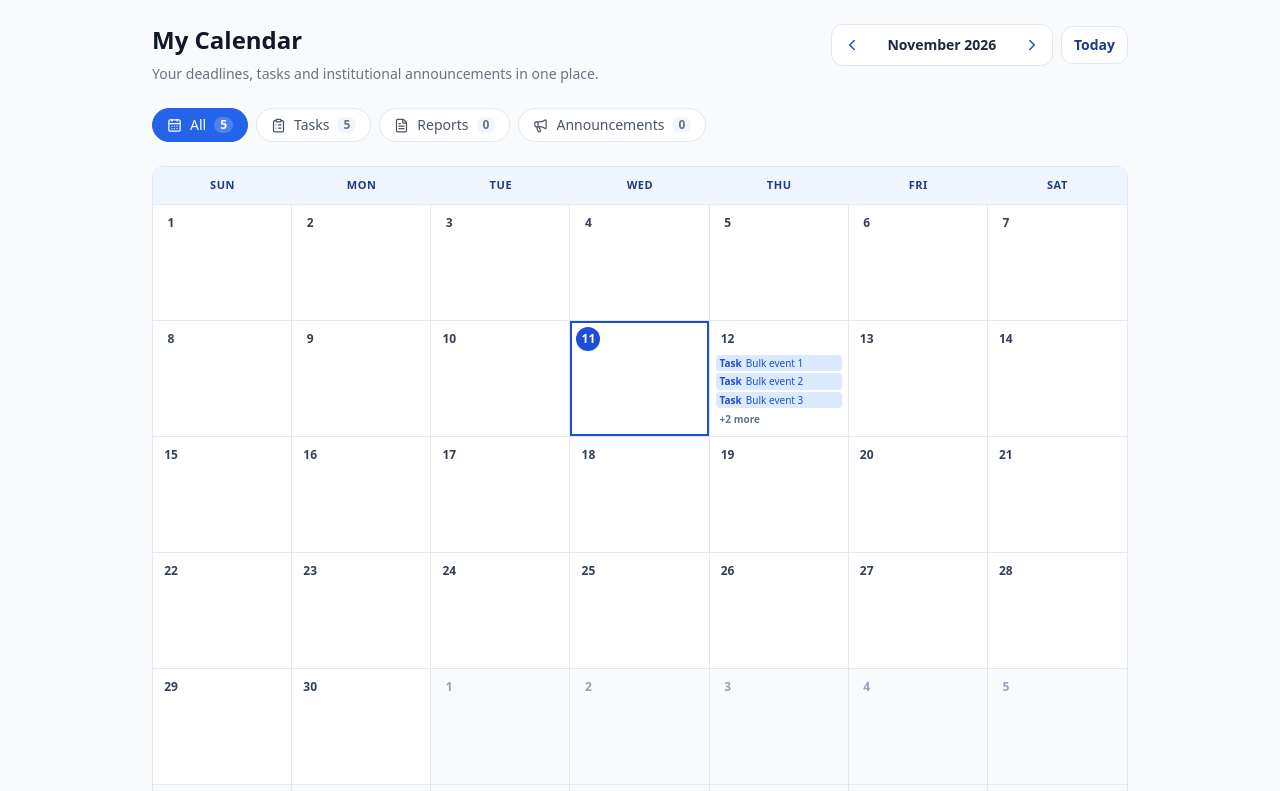
Scenario: EmployeeCalendarPage (in-cell event labels) › collapses extra events into "+X more" and opens the full day list
Expected: the button titled "Task: Bulk event 1" is shown, [716,354,842,371]
Expected: the button titled "Task: Bulk event 3" is shown, [716,392,842,408]
Click the button "+2 more" at point(779, 420), box [716,410,842,429]
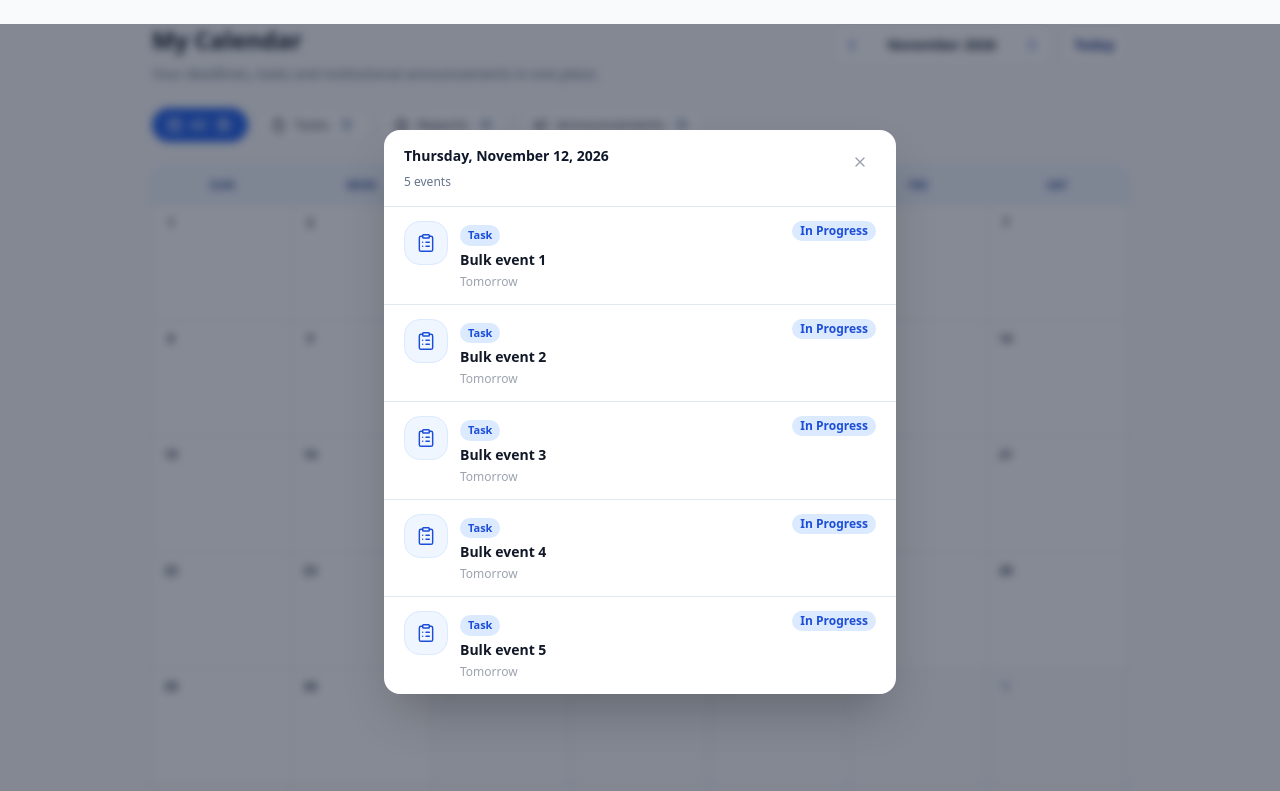
Now the text "Bulk event 1" is shown 5 times, box [460,250,546,269]; [460,347,546,366]; [460,445,546,464]; [460,542,546,561]; [460,640,546,659]
